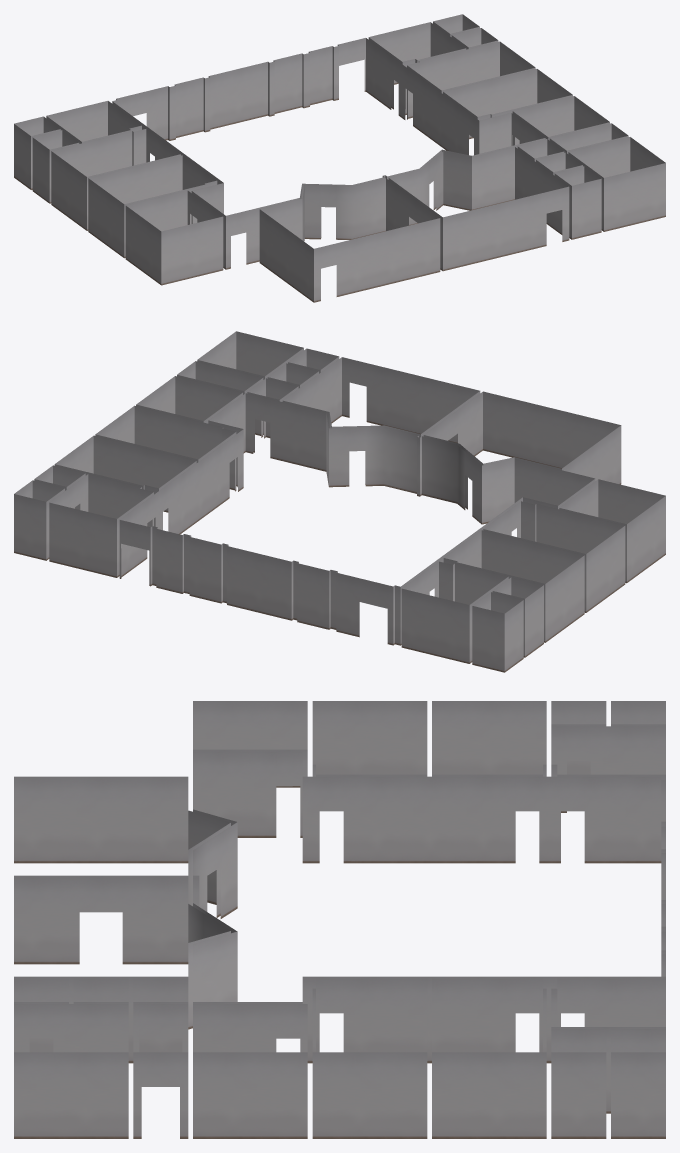
Rendered from inner_walls.DAE.
3 views of the same model, one above another, from view 1: azimuth 30°, elevation 25°; view 2: azimuth 150°, elevation 25°; view 3: azimuth 270°, elevation 25° (orthographic). The views are drawn at different scales.
Visible parts, largest first — view 1: inner_walls; view 2: inner_walls; view 3: inner_walls.
Boxes of the visible parts, x1=… form: inner_walls: x1=14, y1=14, x2=665, y2=302; inner_walls: x1=14, y1=331, x2=665, y2=672; inner_walls: x1=14, y1=701, x2=665, y2=1138.
Bounding box in the file's own units: 1370 × 1075 × 157.
Materials: 1 (1 with a texture image).
